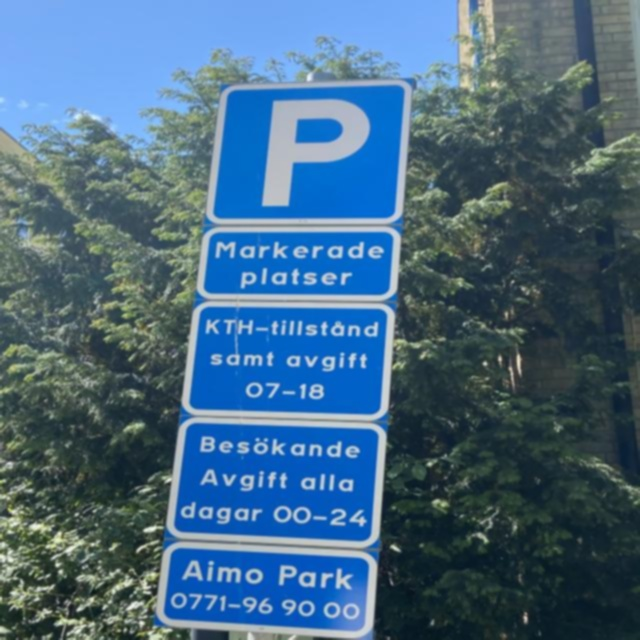P-skylt: (202, 75, 418, 227)
